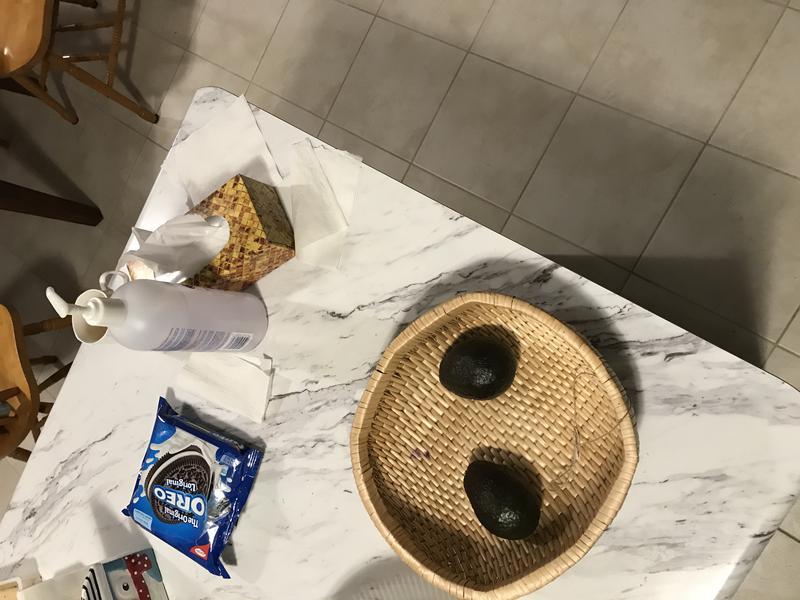avocado: (433, 324, 521, 406), (461, 459, 545, 543)
